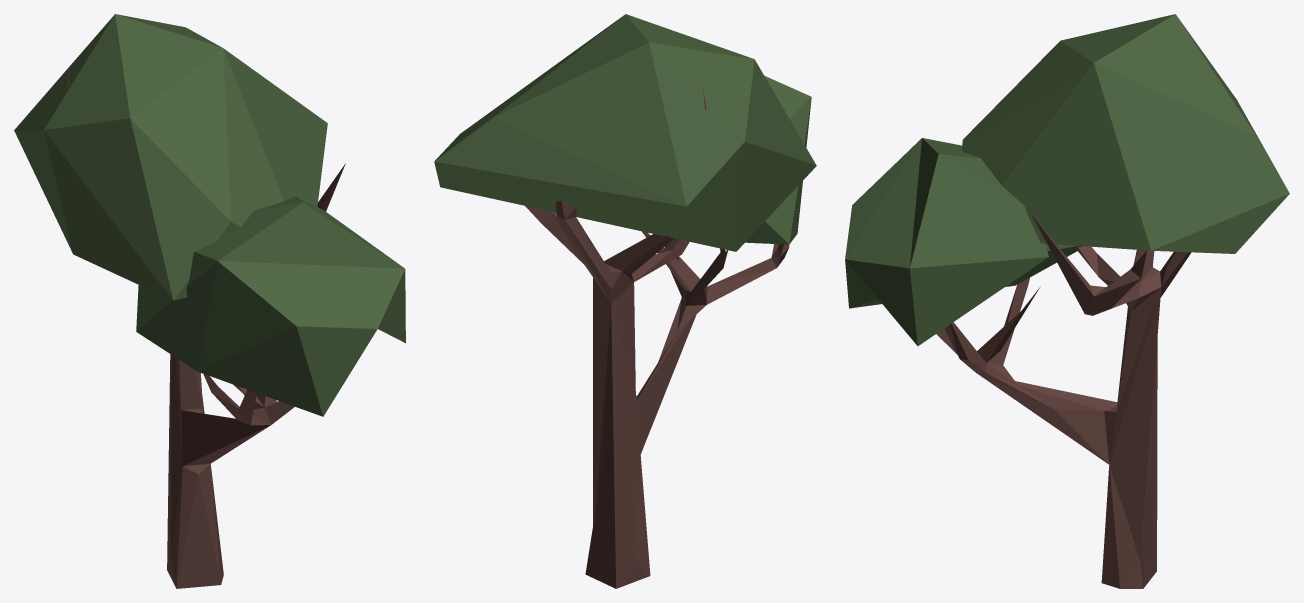
The model's file is qn_tree_b.glb.
3 views of the same model, side by side, from view 1: azimuth 30°, elevation 25°; view 2: azimuth 150°, elevation 25°; view 3: azimuth 270°, elevation 25° (orthographic). The views are drawn at different scales.
Parts seen in each view (by area): view 1: qn_tree_b; view 2: qn_tree_b; view 3: qn_tree_b.
Part boxes in pixels (x1,y1,x2,y2): qn_tree_b: (14, 14, 405, 588); qn_tree_b: (434, 14, 816, 588); qn_tree_b: (845, 14, 1289, 588).
Size of the model in its own units: 1.65 by 3.12 by 2.34.
